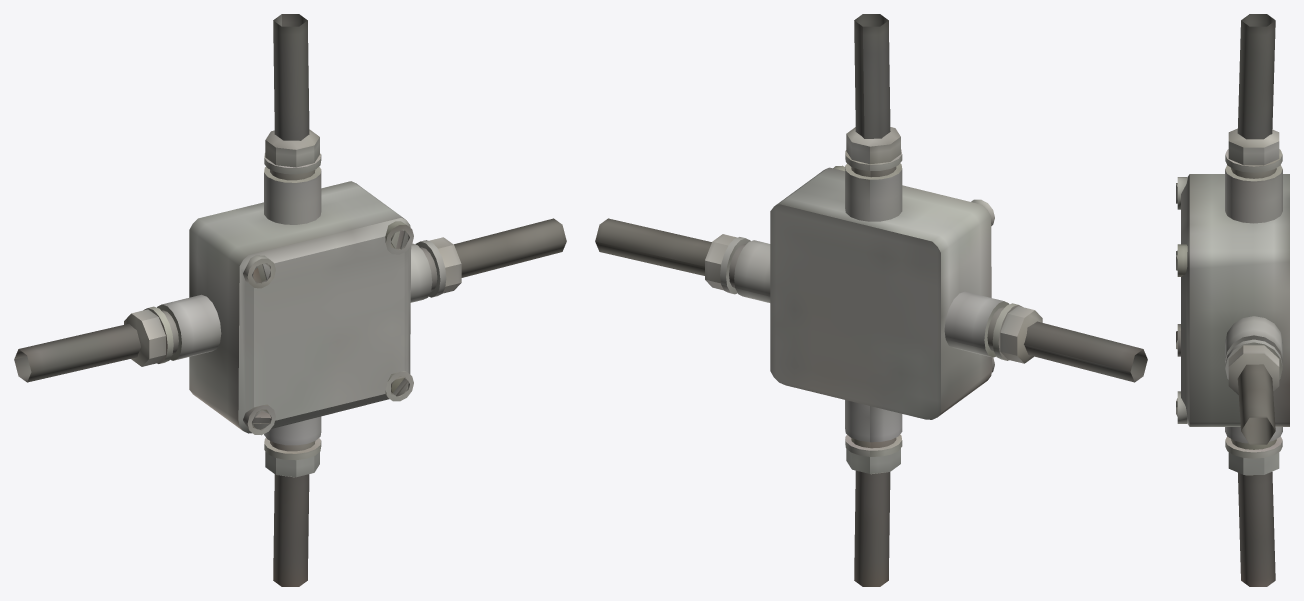
File: wall-junction-box--2.gltf
3 renders of one model, left to right at view 1: azimuth 30°, elevation 25°; view 2: azimuth 150°, elevation 25°; view 3: azimuth 270°, elevation 25°, orthographic.
Visible parts, largest first — view 1: cable_box_4way; view 2: cable_box_4way; view 3: cable_box_4way.
Boxes of the visible parts, box(x1,y1,x2,y2) form: cable_box_4way: box(14, 14, 566, 586); cable_box_4way: box(595, 14, 1147, 586); cable_box_4way: box(1176, 14, 1289, 586).
Bounding box in the file's own units: 0.2 × 0.2 × 0.0368.
1 material, 1 textured.
